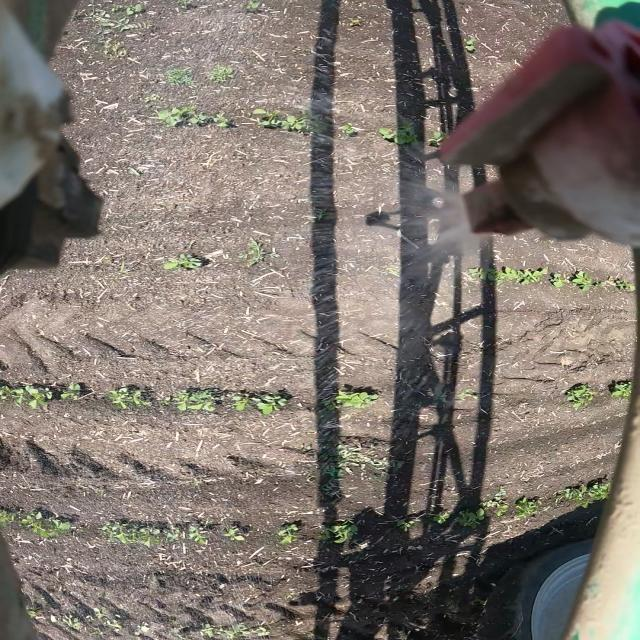plants: (294, 426, 405, 505), (547, 472, 621, 518), (456, 258, 542, 287), (232, 107, 331, 132), (161, 382, 232, 414), (158, 102, 238, 130), (148, 245, 225, 273), (0, 376, 57, 411), (320, 382, 380, 412), (550, 379, 603, 412), (227, 235, 281, 267), (17, 507, 69, 540), (100, 383, 156, 412), (98, 521, 164, 545), (23, 605, 84, 629), (238, 387, 296, 412), (81, 16, 160, 34), (96, 37, 152, 60), (205, 60, 250, 87), (306, 520, 356, 544), (152, 64, 204, 87), (168, 519, 214, 545), (369, 124, 428, 144), (596, 376, 640, 402), (510, 496, 552, 523), (206, 624, 273, 640), (591, 272, 640, 292), (564, 265, 596, 295), (53, 379, 94, 402), (264, 518, 300, 544), (484, 486, 512, 517), (382, 514, 422, 534), (456, 502, 486, 528), (219, 520, 253, 542), (79, 606, 109, 630), (457, 30, 483, 57), (346, 14, 383, 31), (232, 0, 271, 14), (116, 0, 153, 14), (120, 621, 156, 635), (0, 502, 17, 530), (422, 506, 449, 522), (544, 274, 573, 288)
